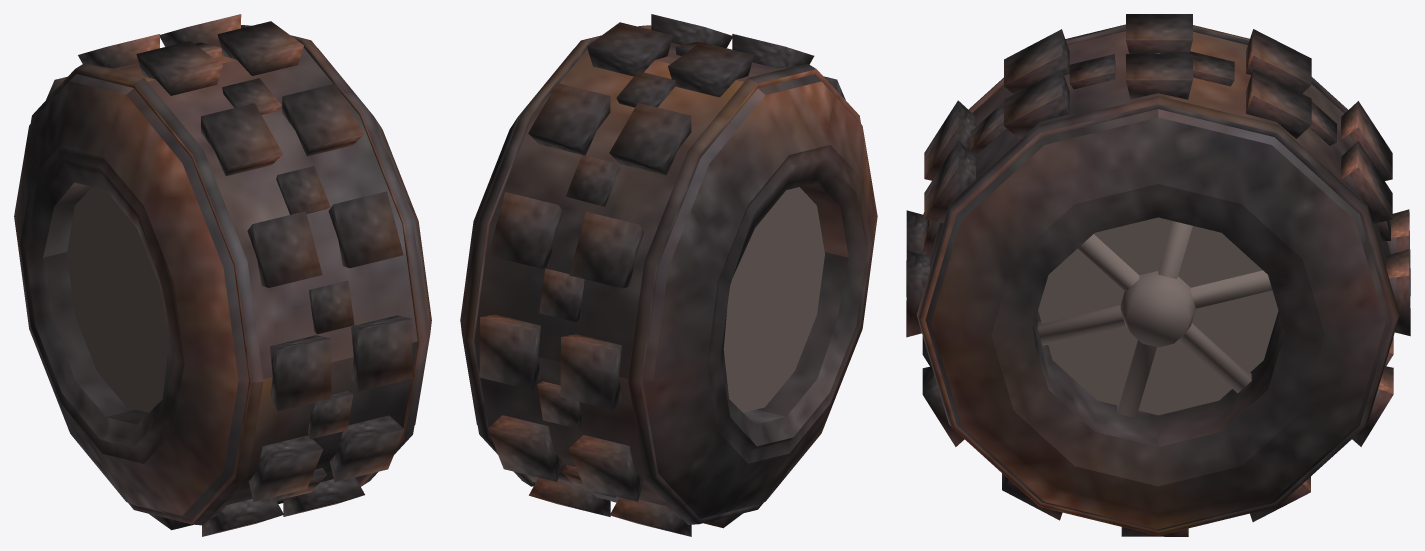
Rendered from Coche_Bueno_04_rueda.fbx.
3 renders of one model, left to right at view 1: azimuth 30°, elevation 25°; view 2: azimuth 150°, elevation 25°; view 3: azimuth 270°, elevation 25°, orthographic.
Parts seen in each view (by area): view 1: Ruerdas_Del_izq.01; view 2: Ruerdas_Del_izq.01; view 3: Ruerdas_Del_izq.01.
Part boxes in pixels (<box>): Ruerdas_Del_izq.01: <box>14,14,431,536</box>; Ruerdas_Del_izq.01: <box>460,14,877,536</box>; Ruerdas_Del_izq.01: <box>906,14,1410,536</box>.
Size of the model in its own units: 217 by 383 by 384.
